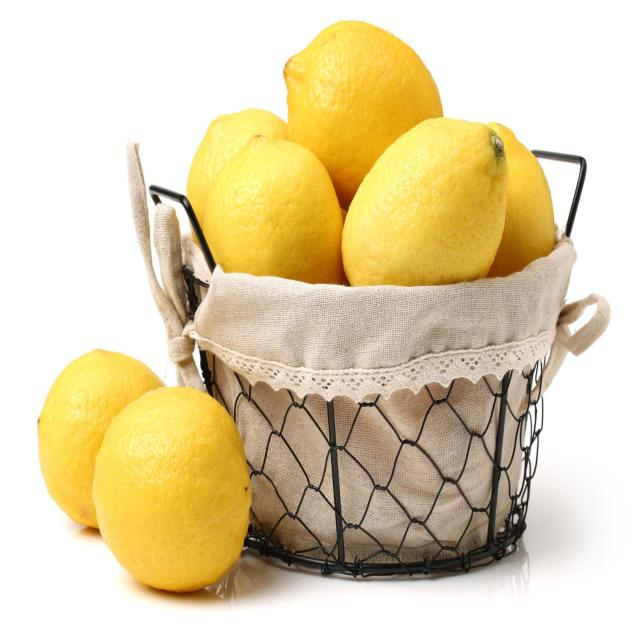lemon: (89, 383, 253, 593), (280, 15, 448, 216)
